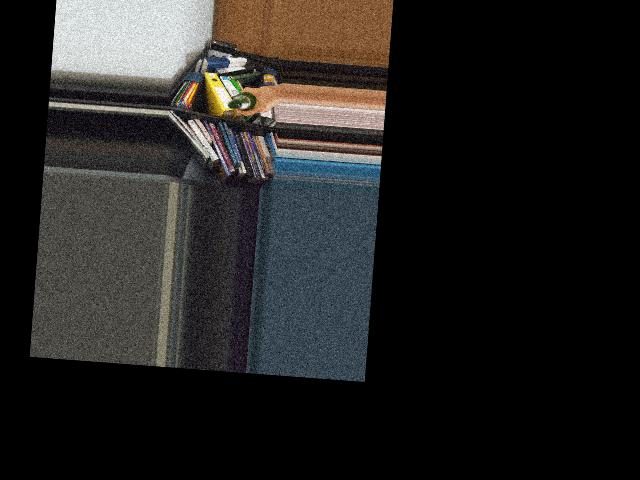beer: (228, 90, 257, 111)
